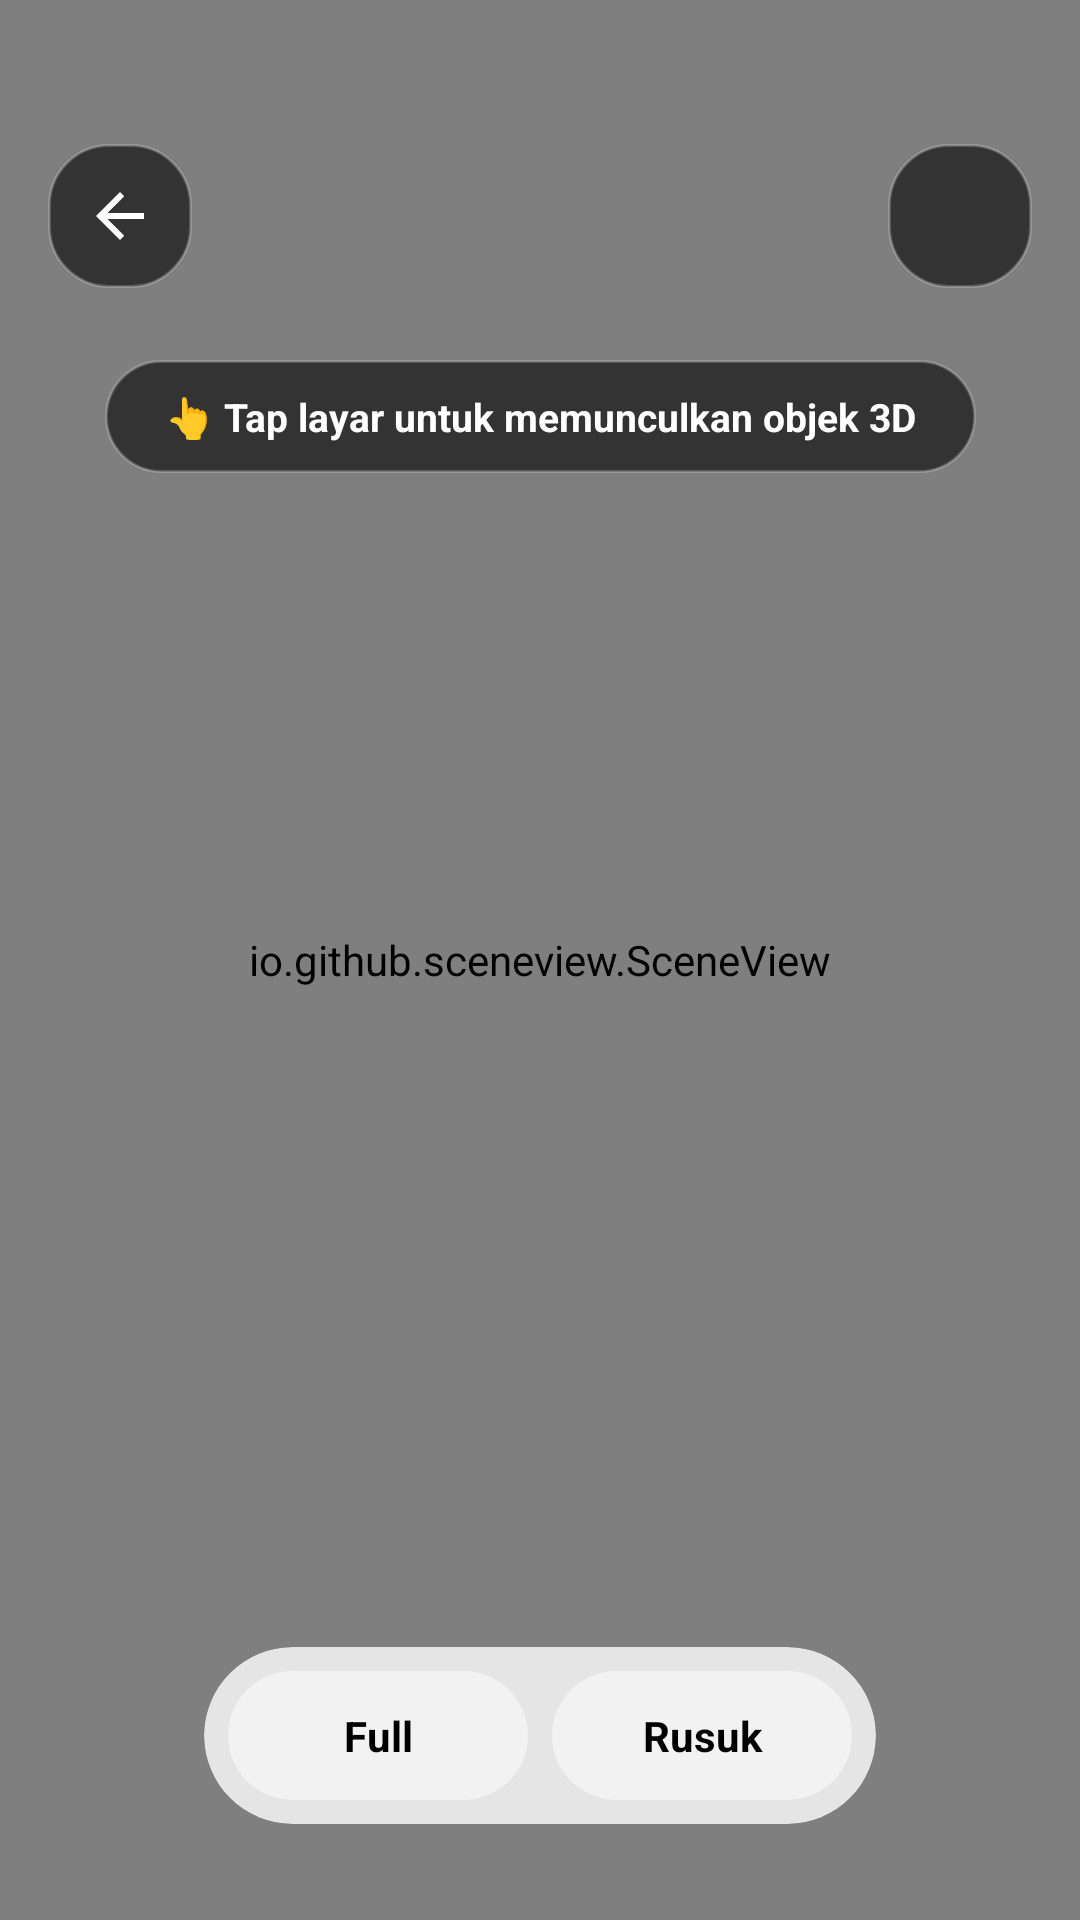

Named icons in this screenshot (1080 x 1920) and their bounding boxes, (left=x1, top=y1, right=x2, bottom=y2):
back: (left=48, top=144, right=192, bottom=288)
